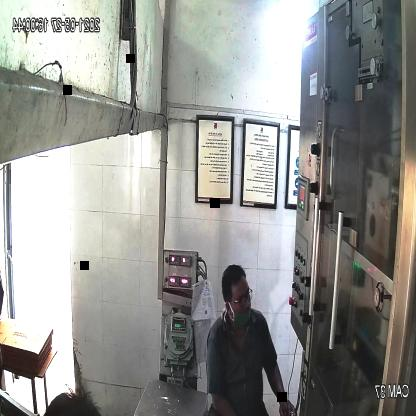goggles: (224, 286, 255, 313)
